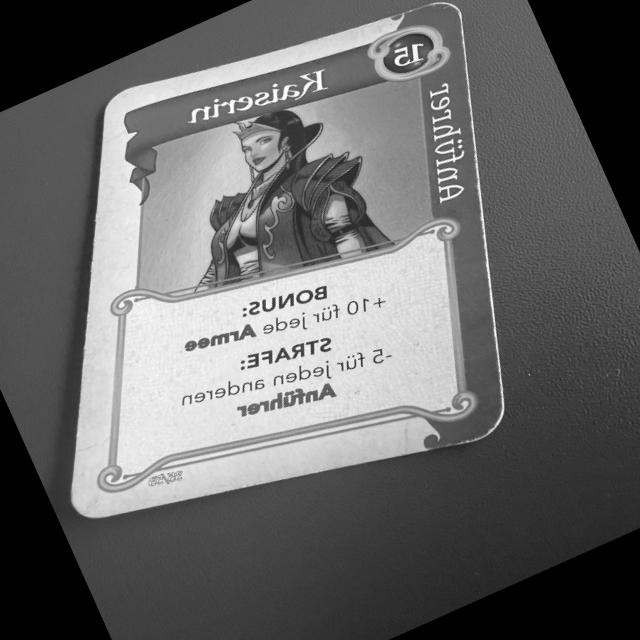Empress: (66, 0, 507, 522)
